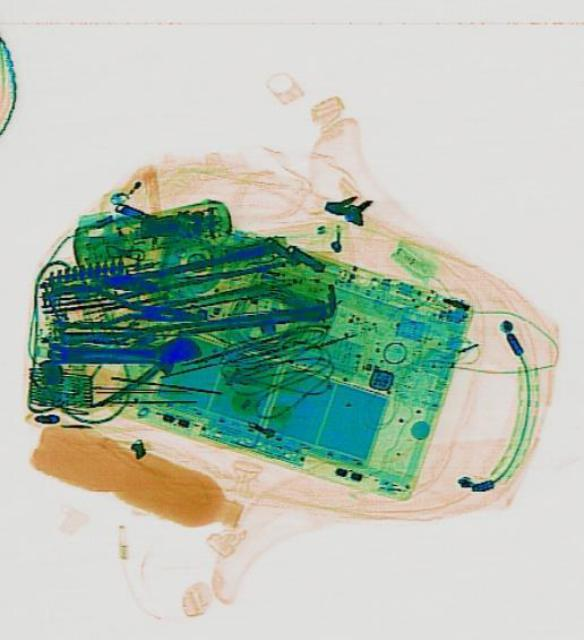Pliers: (54, 280, 197, 338)
